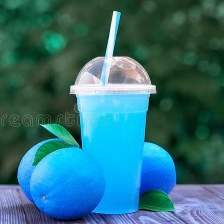drinking_straw: (95, 7, 125, 91)
glass: (66, 51, 156, 220)
